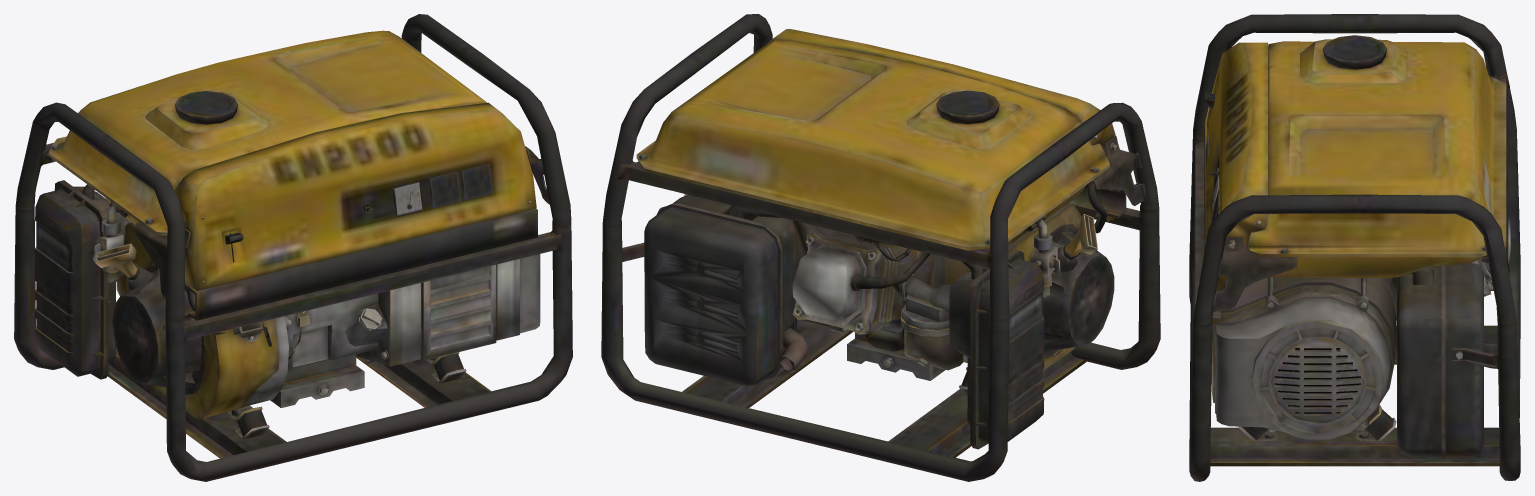
The model's file is portable_generator_lod1.glb.
3 renders of one model, left to right at view 1: azimuth 30°, elevation 25°; view 2: azimuth 150°, elevation 25°; view 3: azimuth 270°, elevation 25°, orthographic.
Visible parts, largest first — view 1: portable_generator; view 2: portable_generator; view 3: portable_generator.
Part boxes in pixels (x1=…): portable_generator: x1=14, y1=14, x2=572, y2=481; portable_generator: x1=601, y1=14, x2=1160, y2=481; portable_generator: x1=1189, y1=14, x2=1520, y2=481.
Bounding box in the file's own units: 0.8169 × 0.5752 × 0.564.
Materials: 2 (2 with a texture image).
